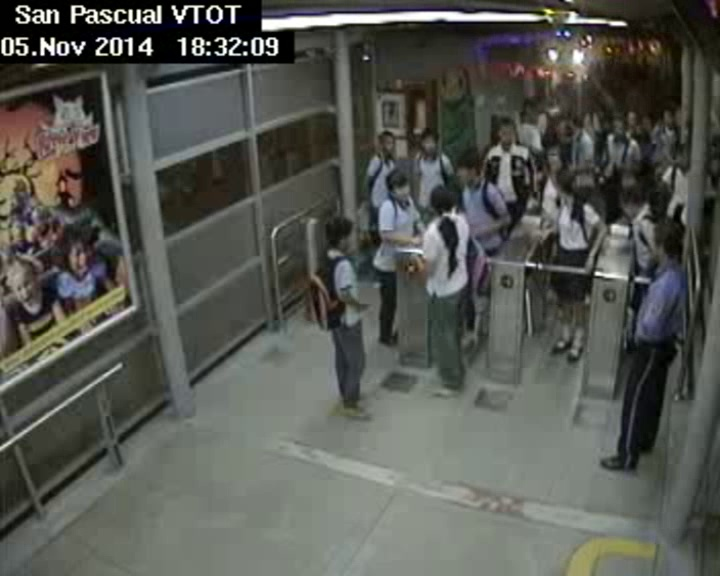person: (648, 216, 681, 264), (431, 181, 461, 223), (323, 215, 356, 253), (550, 169, 586, 202), (386, 166, 414, 201), (493, 115, 519, 149), (457, 152, 482, 187), (545, 141, 568, 176), (420, 125, 443, 157), (671, 143, 697, 171), (373, 125, 397, 154), (519, 100, 539, 129), (625, 107, 643, 130), (550, 94, 568, 113), (608, 119, 628, 136), (662, 107, 677, 128)
